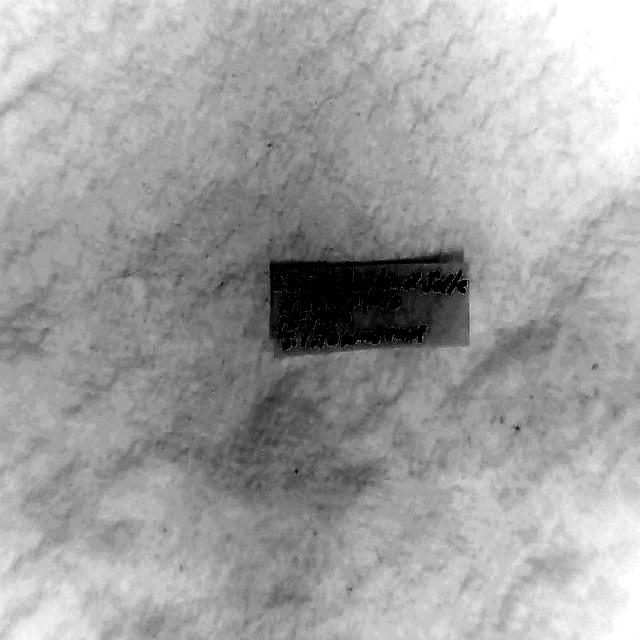hand_label: (272, 262, 469, 356)
